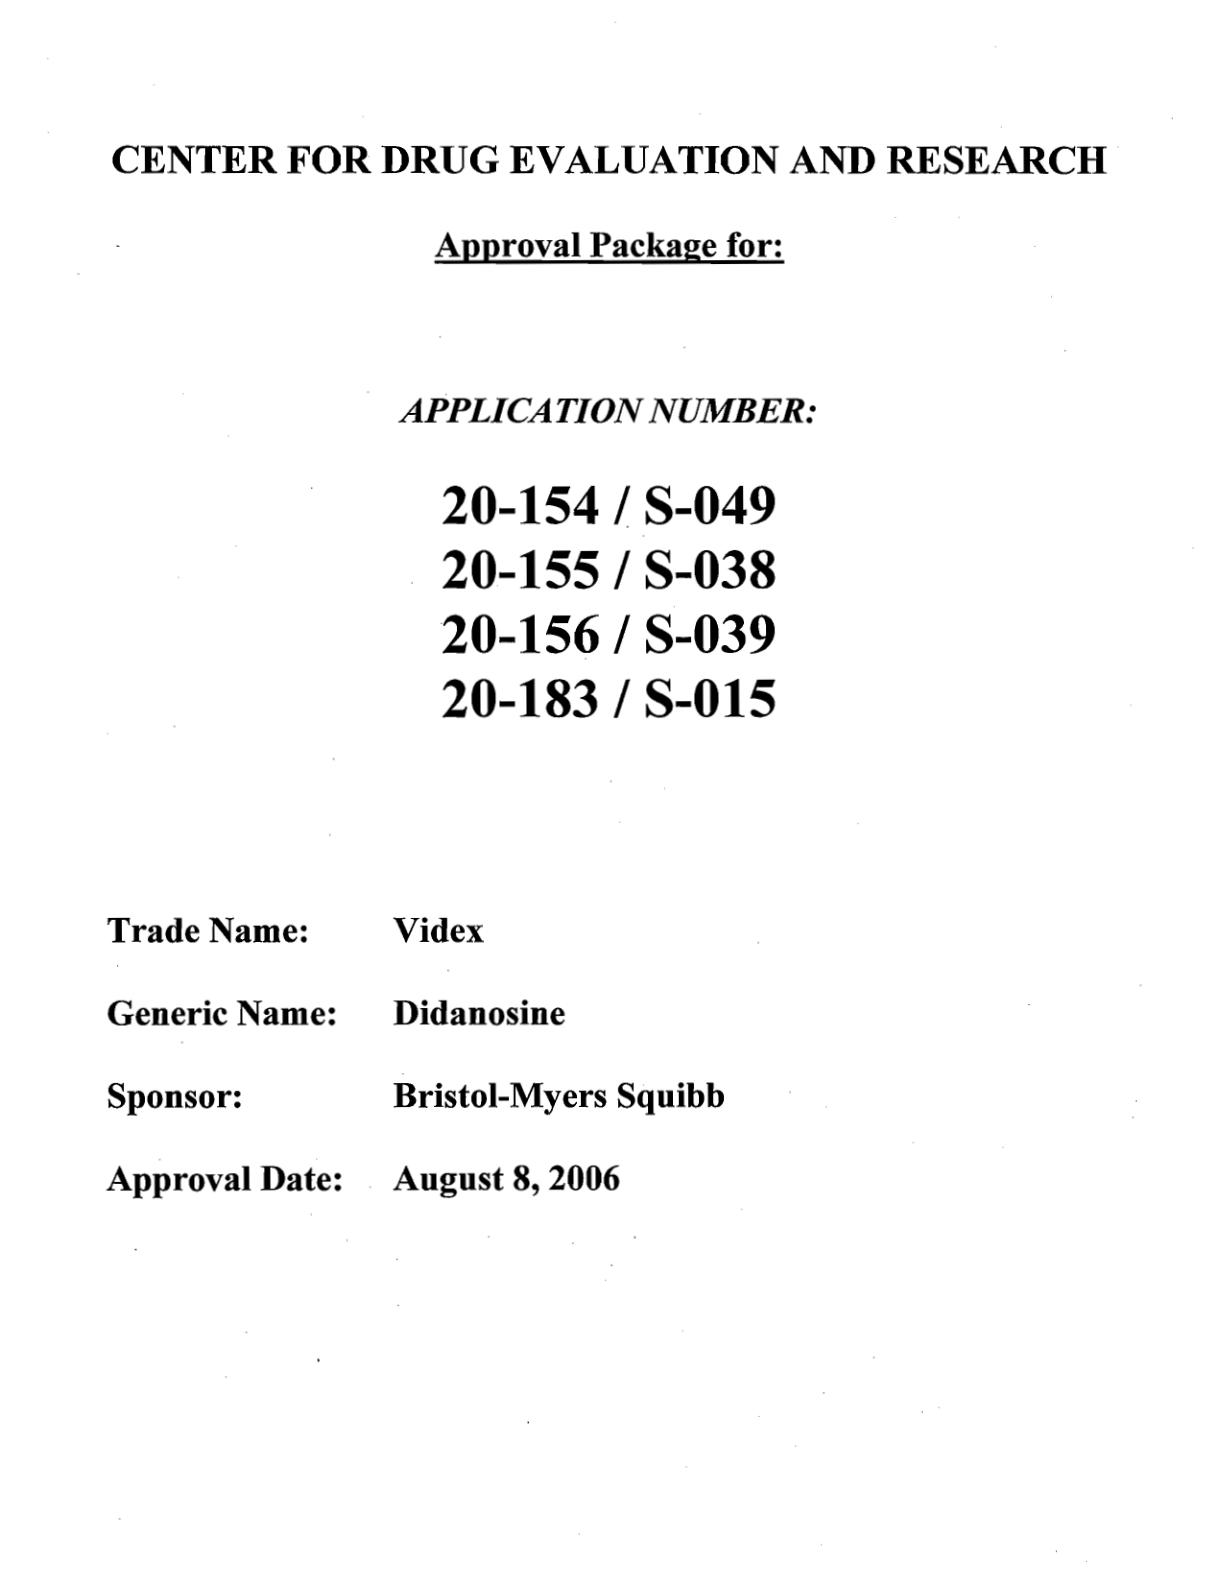nolines: (100, 909, 734, 1199)
